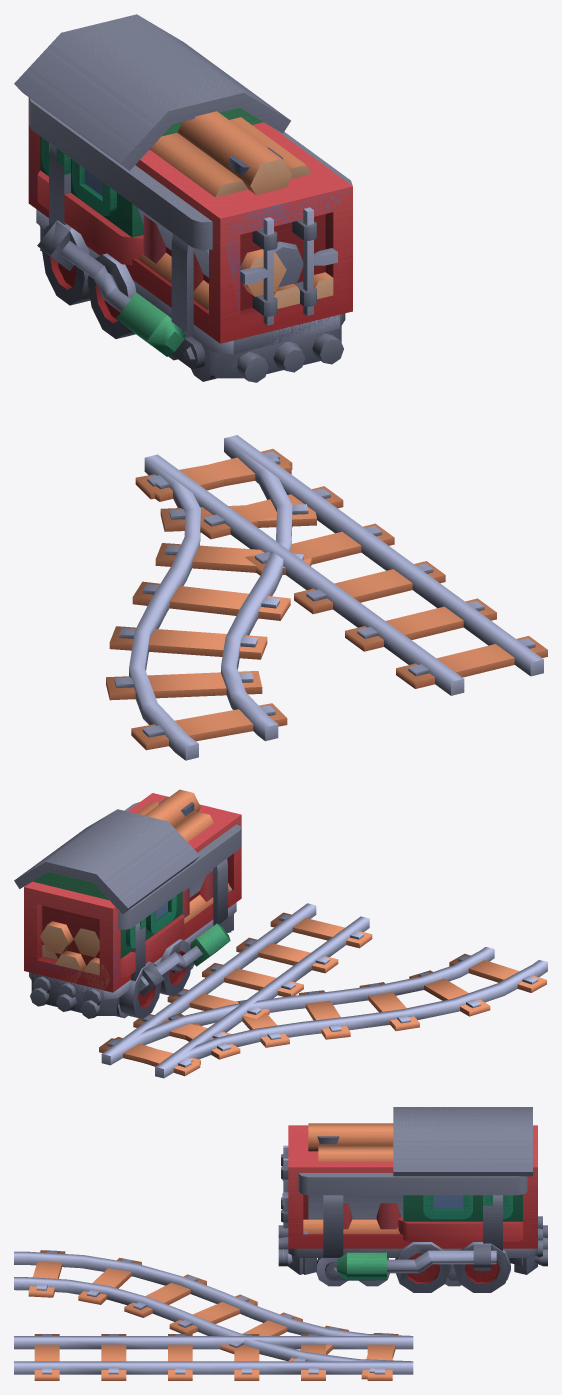
The model's file is train.glb.
3 renders of one model, top to bottom at view 1: azimuth 30°, elevation 25°; view 2: azimuth 150°, elevation 25°; view 3: azimuth 270°, elevation 25°, orthographic. The views are drawn at different scales.
Visible parts, largest first — view 1: train-locomotive-a, railroad-curve, railroad-straight, cargo.001, train-carriage-box, cargo, train-carriage-lumber, cargo.004, wheel, cargo.002, wheel.001, train-carriage-container-red (+1 smaller); view 2: train-locomotive-a, railroad-curve, railroad-straight, cargo.001, train-carriage-box, cargo.004, train-carriage-lumber, cargo, wheel.001, wheel, train-carriage-wood, train-carriage-container-red; view 3: train-locomotive-a, railroad-straight, railroad-curve, train-carriage-box, cargo.001, cargo, train-carriage-lumber, wheel.002, wheel.003, cargo.004, wheels-front.003.
Part boxes in pixels (bbox=[...]): train-locomotive-a: bbox=[14, 14, 336, 377]; railroad-curve: bbox=[106, 438, 316, 760]; railroad-straight: bbox=[141, 435, 547, 695]; cargo.001: bbox=[28, 97, 352, 343]; train-carriage-box: bbox=[29, 98, 352, 382]; cargo: bbox=[150, 111, 311, 197]; train-carriage-lumber: bbox=[36, 144, 343, 380]; cargo.004: bbox=[138, 249, 333, 309]; wheel: bbox=[87, 253, 136, 338]; cargo.002: bbox=[28, 110, 348, 316]; wheel.001: bbox=[42, 220, 90, 305]; train-carriage-container-red: bbox=[40, 226, 342, 381]; train-locomotive-a: bbox=[14, 797, 231, 1005]; railroad-curve: bbox=[103, 947, 547, 1078]; railroad-straight: bbox=[99, 903, 372, 1078]; cargo.001: bbox=[24, 793, 241, 992]; train-carriage-box: bbox=[29, 802, 241, 1018]; cargo.004: bbox=[40, 883, 229, 990]; train-carriage-lumber: bbox=[30, 858, 236, 1018]; cargo: bbox=[136, 789, 213, 841]; wheel.001: bbox=[119, 961, 161, 1019]; wheel: bbox=[160, 939, 191, 996]; train-carriage-wood: bbox=[34, 858, 234, 1015]; train-carriage-container-red: bbox=[30, 914, 233, 1018]; train-locomotive-a: bbox=[283, 1107, 542, 1280]; railroad-straight: bbox=[14, 1334, 413, 1380]; railroad-curve: bbox=[14, 1250, 413, 1379]; train-carriage-box: bbox=[278, 1173, 547, 1270]; cargo.001: bbox=[281, 1125, 537, 1248]; cargo: bbox=[308, 1123, 393, 1161]; train-carriage-lumber: bbox=[278, 1195, 547, 1274]; wheel.002: bbox=[395, 1242, 450, 1292]; wheel.003: bbox=[454, 1242, 510, 1292]; cargo.004: bbox=[303, 1219, 400, 1233]; wheels-front.003: bbox=[316, 1258, 389, 1286].
Bounding box in the file's own units: 3.21 × 2.66 × 5.35.
Materials: 1 (1 with a texture image).
